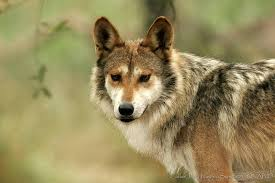Lobo: (76, 3, 269, 181)
